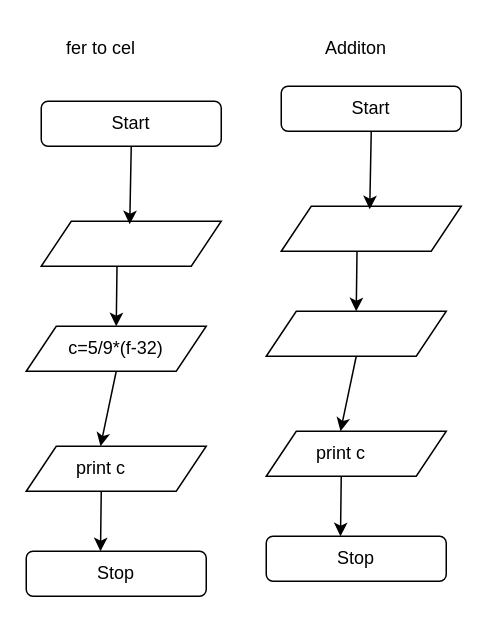
Image size: 488x623. Some labels were removed from this diagram. The shapes that lost their labels are listed below. From the top down, each one's box as (x1, y1, x2, y2) in pixels, then its label:
(40, 220, 221, 266): Input -Fer
(280, 205, 461, 251): input a, b
(265, 310, 446, 356): c=a+b
